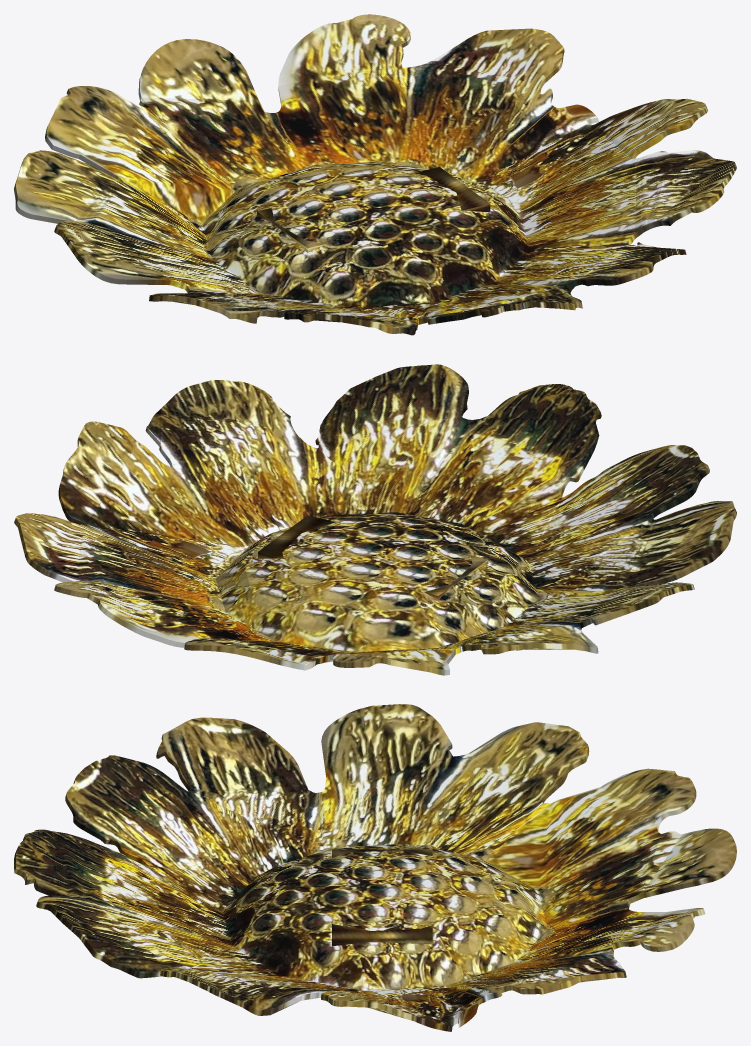
Rendered from Brooch.fbx.
3 views of the same model, one above another, from view 1: azimuth 30°, elevation 25°; view 2: azimuth 150°, elevation 25°; view 3: azimuth 270°, elevation 25° (orthographic).
Visible parts, largest first — view 1: Cylinder; view 2: Cylinder; view 3: Cylinder.
Part boxes in pixels (box(x1,y1,x2,y2)): Cylinder: box(14, 14, 736, 335); Cylinder: box(14, 364, 736, 675); Cylinder: box(14, 704, 736, 1031).
Bounding box in the file's own units: 206 × 32.6 × 209.
1 material, 1 textured.
